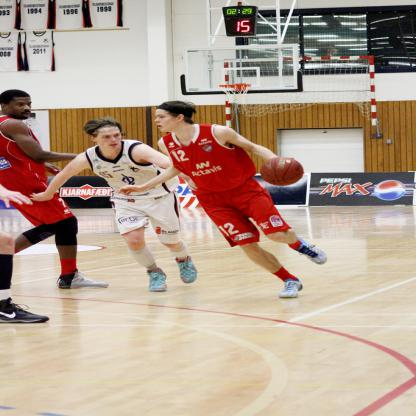Ball: (258, 158, 304, 186), (374, 179, 406, 200)
